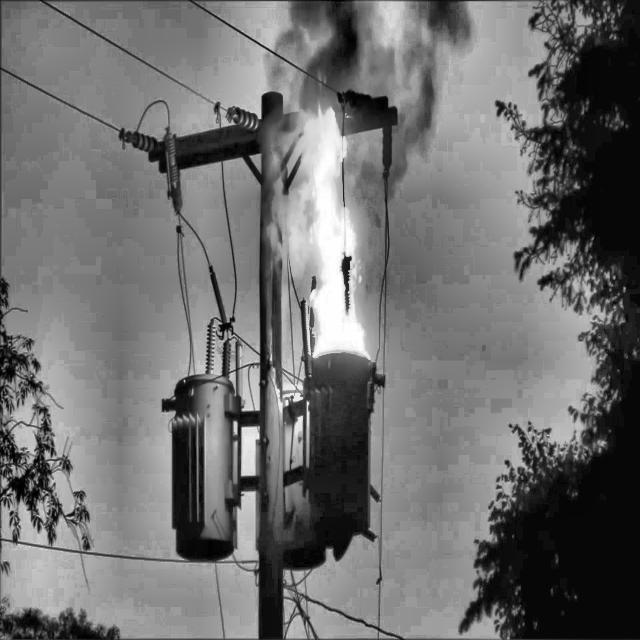Fire: (301, 89, 376, 371)
